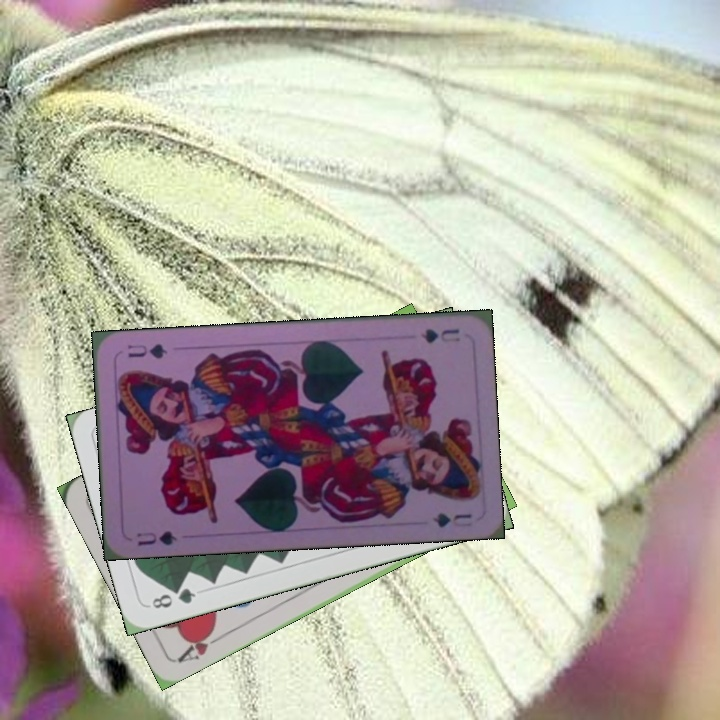G8: (145, 583, 199, 612)
GU: (133, 527, 179, 549), (416, 325, 463, 346)
HA: (174, 624, 228, 666)
